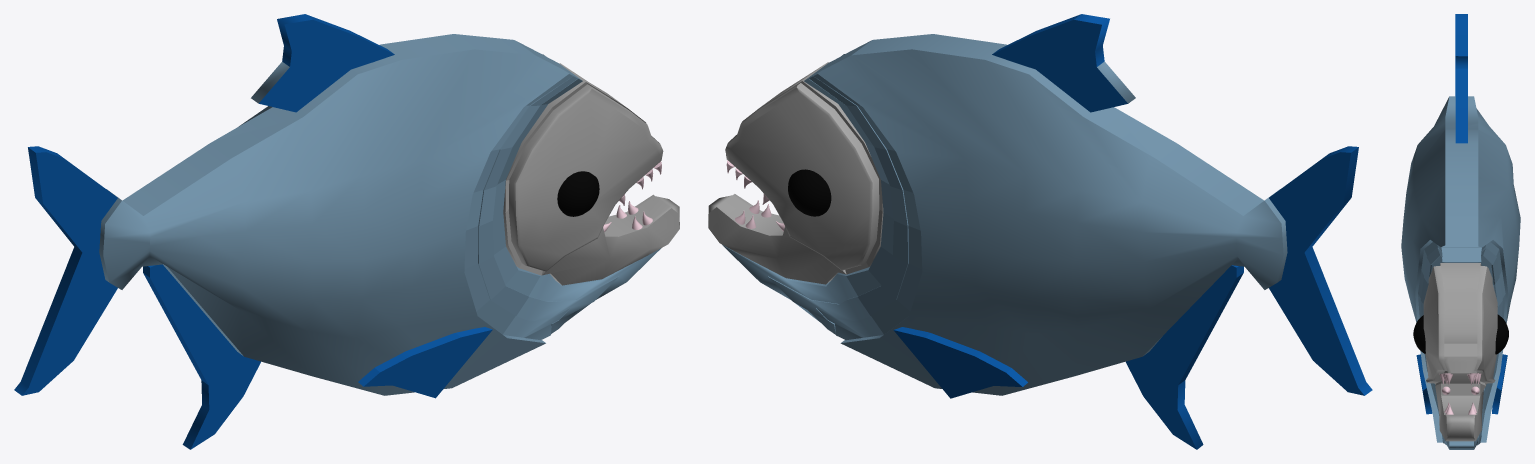
The model's file is Diana_Pirana.fbx.
The picture shows the model from 3 angles, left to right: view 1: azimuth 30°, elevation 25°; view 2: azimuth 150°, elevation 25°; view 3: azimuth 270°, elevation 25°; orthographic projection. The views are drawn at different scales.
Visible parts, largest first — view 1: Pirana; view 2: Pirana; view 3: Pirana.
Part boxes in pixels (box(x1,y1,x2,y2)): Pirana: box(14, 14, 679, 449); Pirana: box(708, 14, 1372, 449); Pirana: box(1401, 14, 1520, 449).
Bounding box in the file's own units: 297 × 174 × 59.8.
